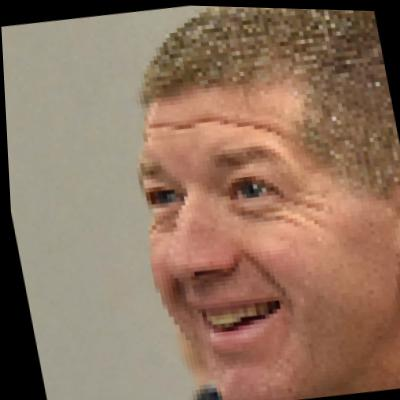happy: (114, 61, 386, 399)
